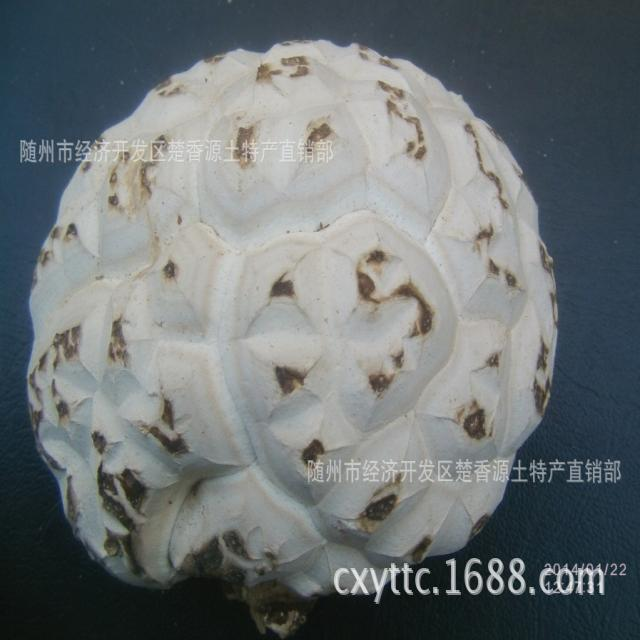Lentinus edodes: (27, 39, 561, 633)
